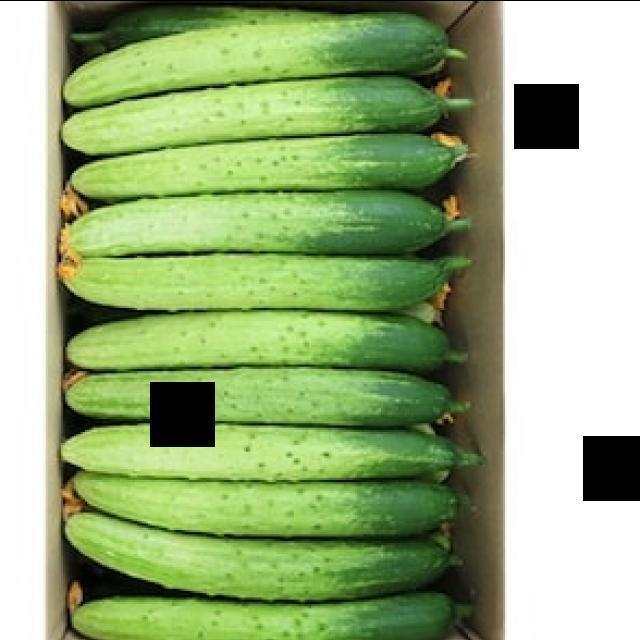cucumber: (59, 0, 488, 640)
